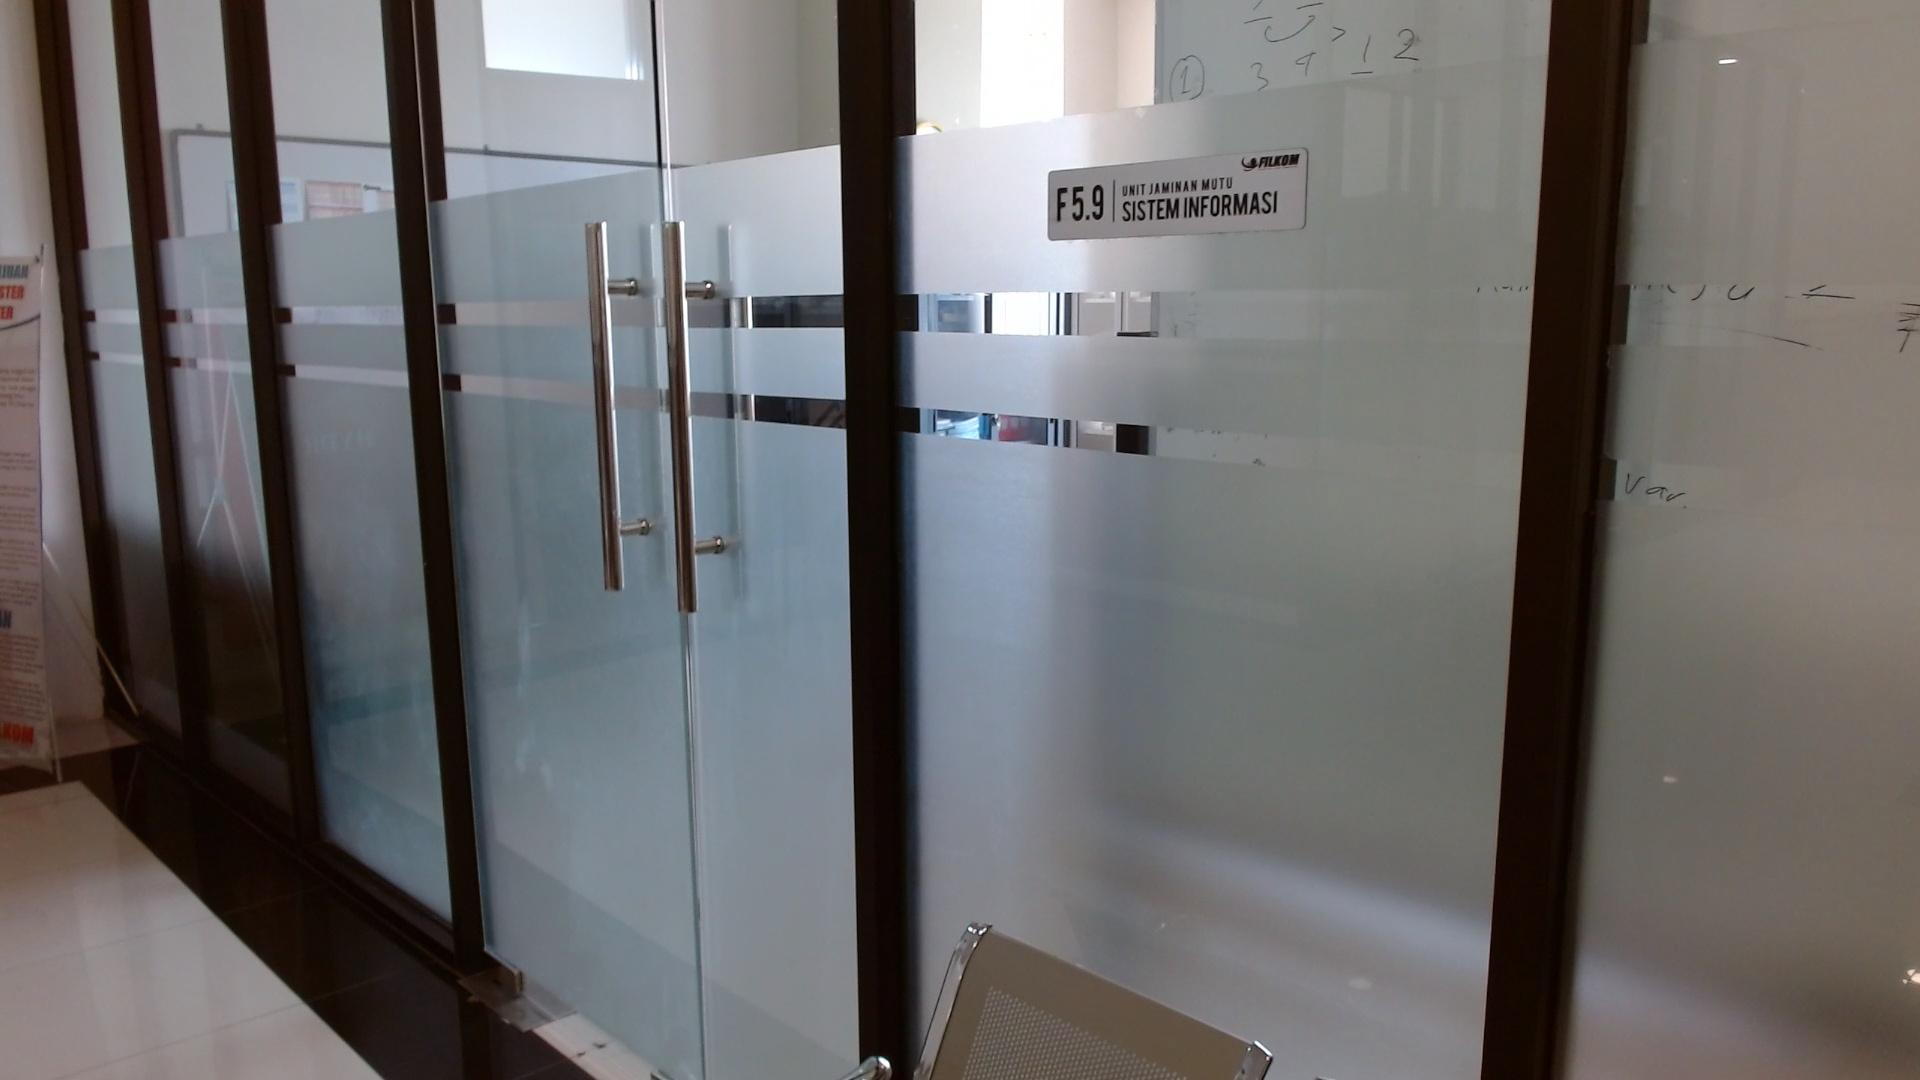plate: (1047, 146, 1308, 243)
